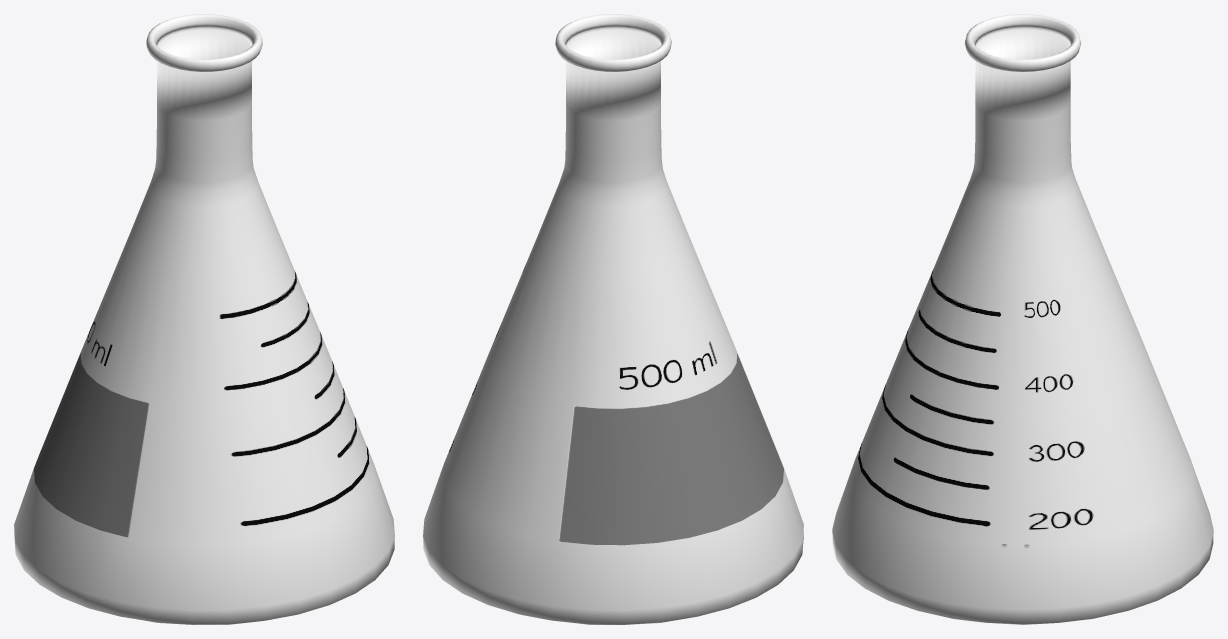
File: FrascoChad2.fbx
The picture shows the model from 3 angles, left to right: view 1: azimuth 30°, elevation 25°; view 2: azimuth 150°, elevation 25°; view 3: azimuth 270°, elevation 25°; orthographic projection.
Visible parts, largest first — view 1: Cylinder.003, Cylinder.002; view 2: Cylinder.003, Cylinder.002; view 3: Cylinder.003.
Part boxes in pixels (x1,y1,x2,y2): Cylinder.003: (14, 14, 394, 624); Cylinder.002: (34, 348, 149, 537); Cylinder.003: (423, 14, 803, 624); Cylinder.002: (558, 353, 783, 545); Cylinder.003: (832, 14, 1213, 624).
Size of the model in its own units: 180 by 270 by 180.
Materials: 1 (1 with a texture image).
